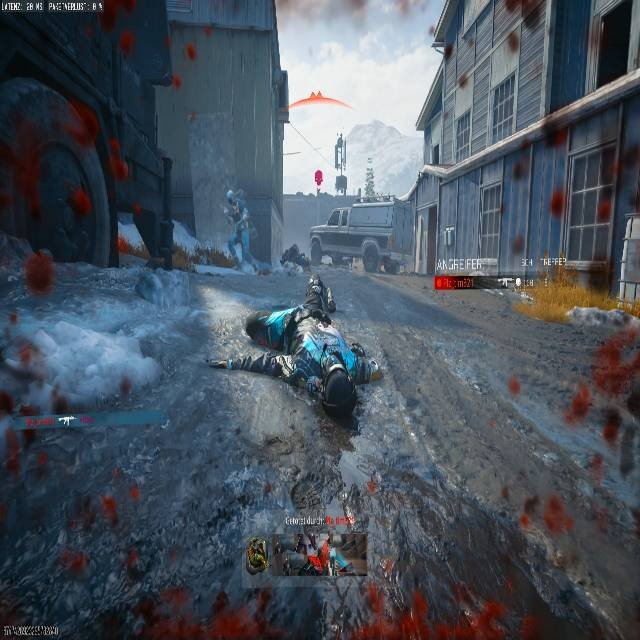head: (303, 275, 336, 317)
player: (237, 276, 379, 443), (224, 190, 254, 269), (314, 169, 323, 191)
